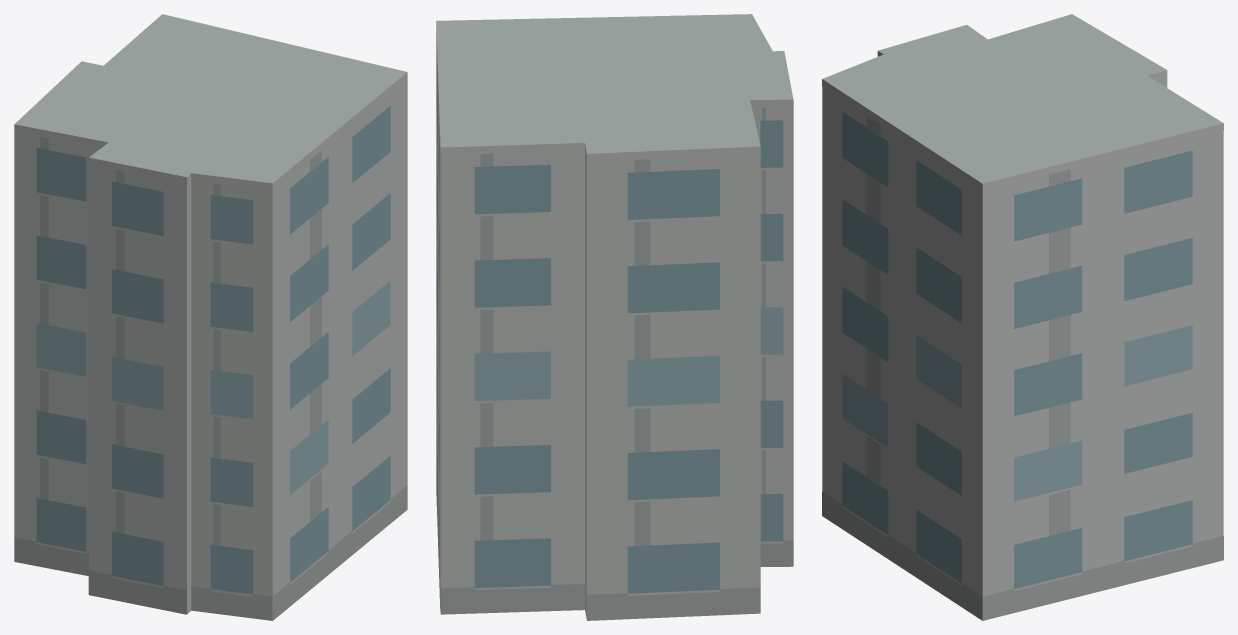
Rendered from survey-upis-32799788.glb.
The picture shows the model from 3 angles, left to right: view 1: azimuth 30°, elevation 25°; view 2: azimuth 150°, elevation 25°; view 3: azimuth 270°, elevation 25°; orthographic projection. The views are drawn at different scales.
Visible parts, largest first — view 1: survey-upis-32799788.tmp; view 2: survey-upis-32799788.tmp; view 3: survey-upis-32799788.tmp.
Boxes of the visible parts, bbox=[...] form: survey-upis-32799788.tmp: bbox=[14, 14, 407, 620]; survey-upis-32799788.tmp: bbox=[436, 14, 793, 620]; survey-upis-32799788.tmp: bbox=[822, 14, 1223, 620].
Size of the model in its own units: 11.93 by 14.3 by 11.92.
